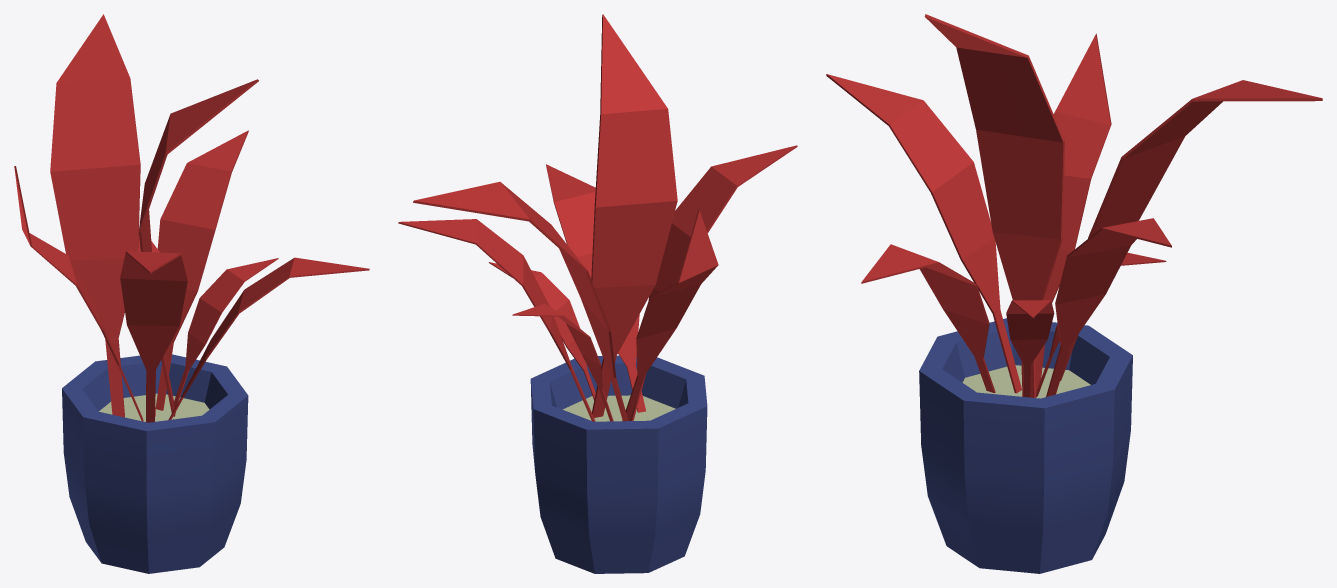
Rendered from Patio_Flower1.fbx.
3 views of the same model, side by side, from view 1: azimuth 30°, elevation 25°; view 2: azimuth 150°, elevation 25°; view 3: azimuth 270°, elevation 25° (orthographic). The views are drawn at different scales.
Visible parts, largest first — view 1: Patio_Flower1; view 2: Patio_Flower1; view 3: Patio_Flower1.
Boxes of the visible parts, left/top/right/bottom form: Patio_Flower1: left=14, top=14, right=369, bottom=573; Patio_Flower1: left=398, top=14, right=797, bottom=573; Patio_Flower1: left=826, top=14, right=1322, bottom=573.
Size of the model in its own units: 92.68 by 159 by 128.
